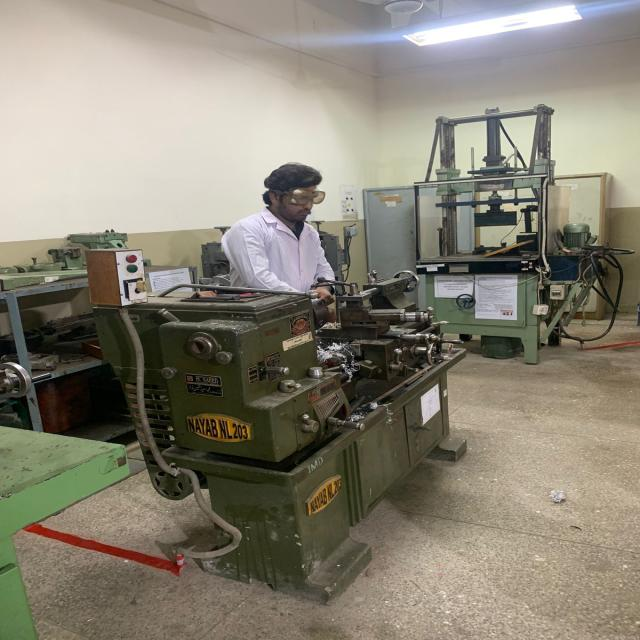googles: (292, 188, 326, 206)
labcoat: (215, 219, 341, 337)
